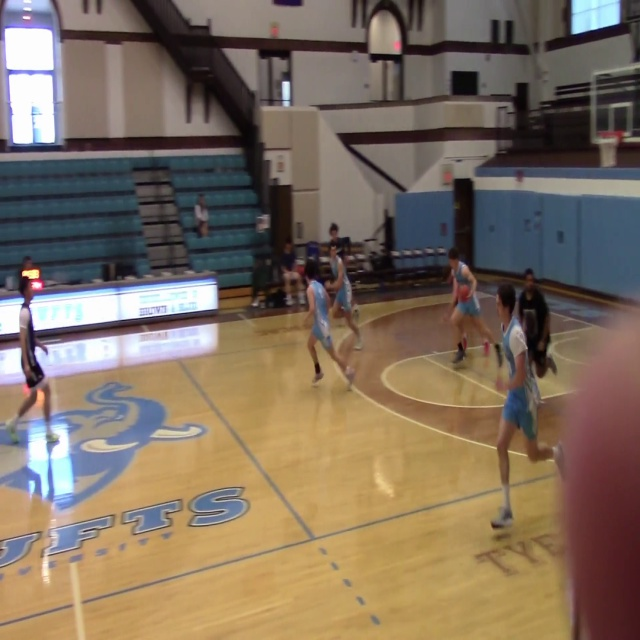Basketball: (457, 285, 471, 301)
